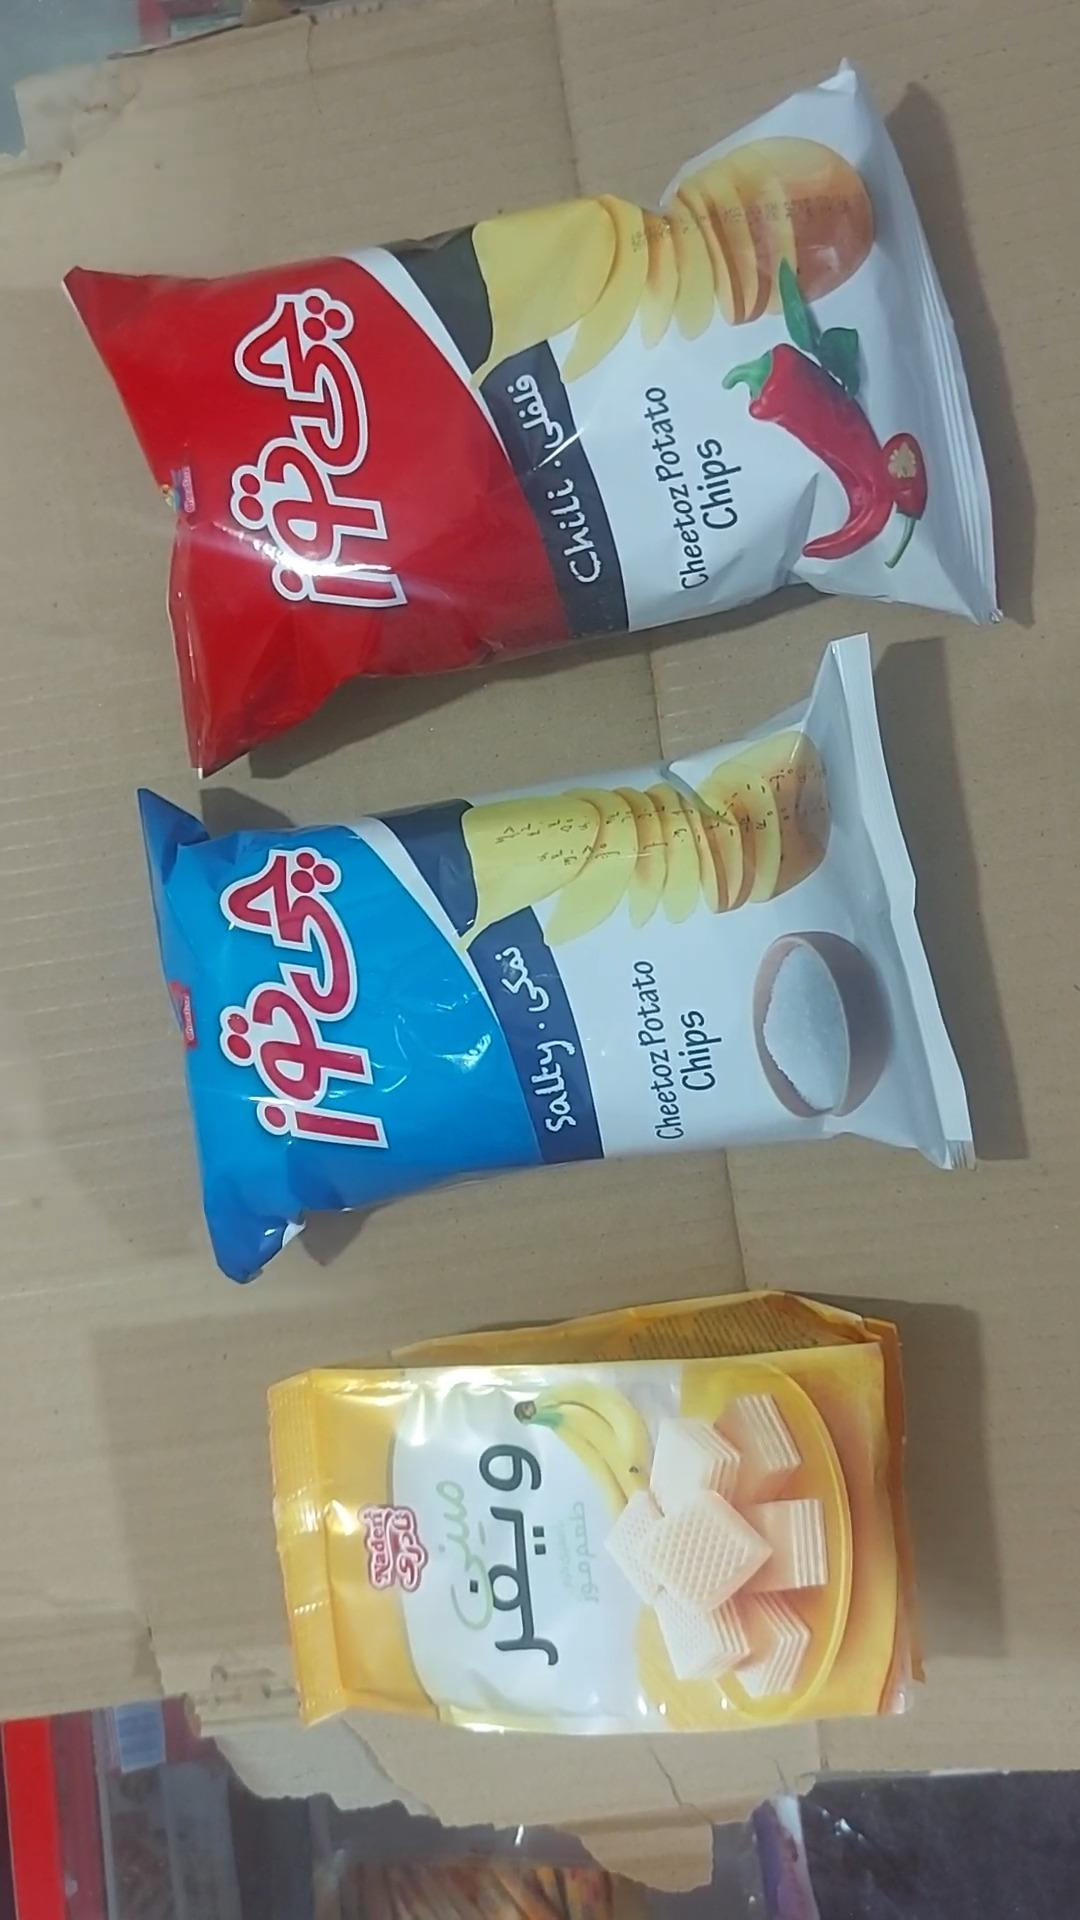Cheetoz chili chips: (62, 62, 1002, 779)
Cheetoz salty chips: (135, 636, 975, 1287)
Naderi mini wafer: (265, 1290, 926, 1739)
